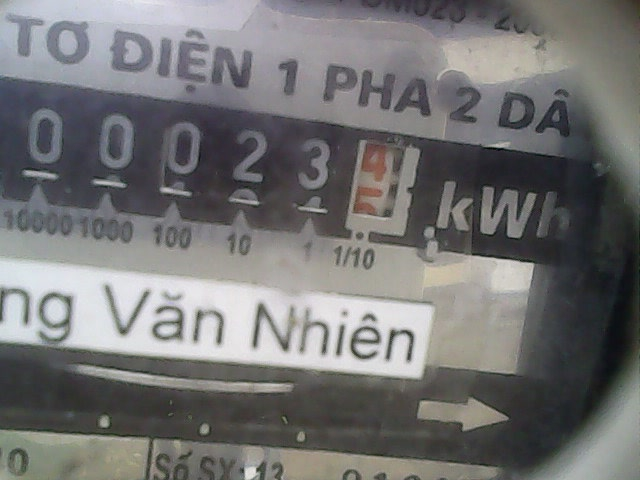phy_plate: (8, 81, 430, 240)
